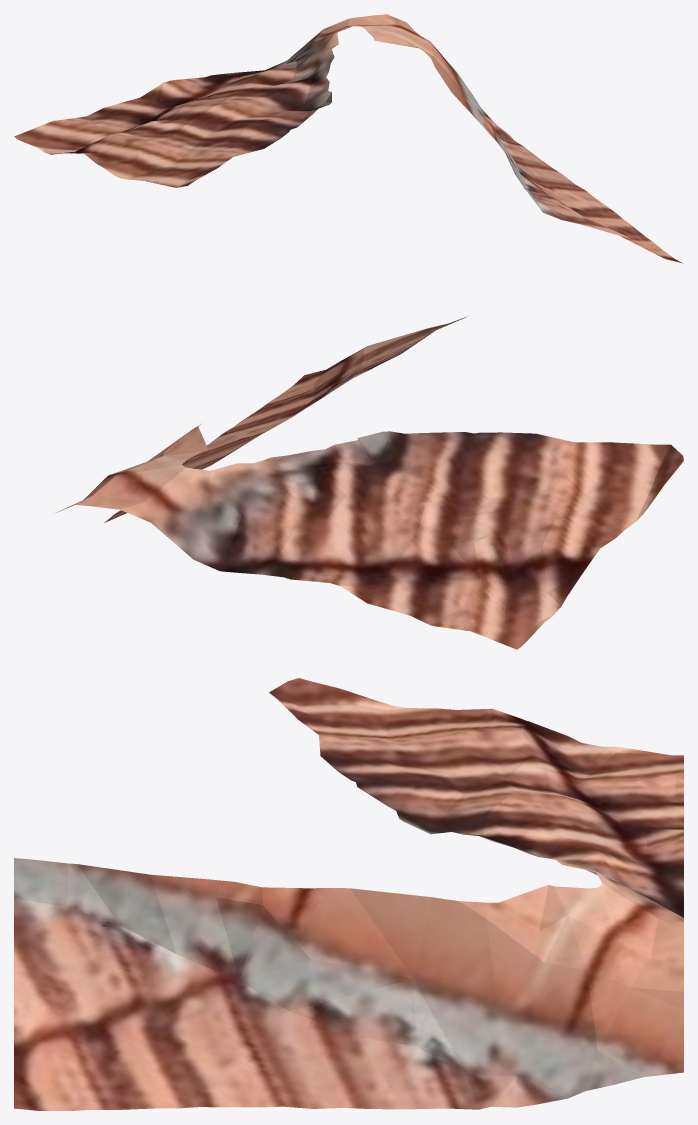
3 views of the same model, one above another, from view 1: azimuth 30°, elevation 25°; view 2: azimuth 150°, elevation 25°; view 3: azimuth 270°, elevation 25° (orthographic). The views are drawn at different scales.
Bounding box in the file's own units: 0.8374 × 0.2066 × 0.8373.
2 materials, 2 textured.
